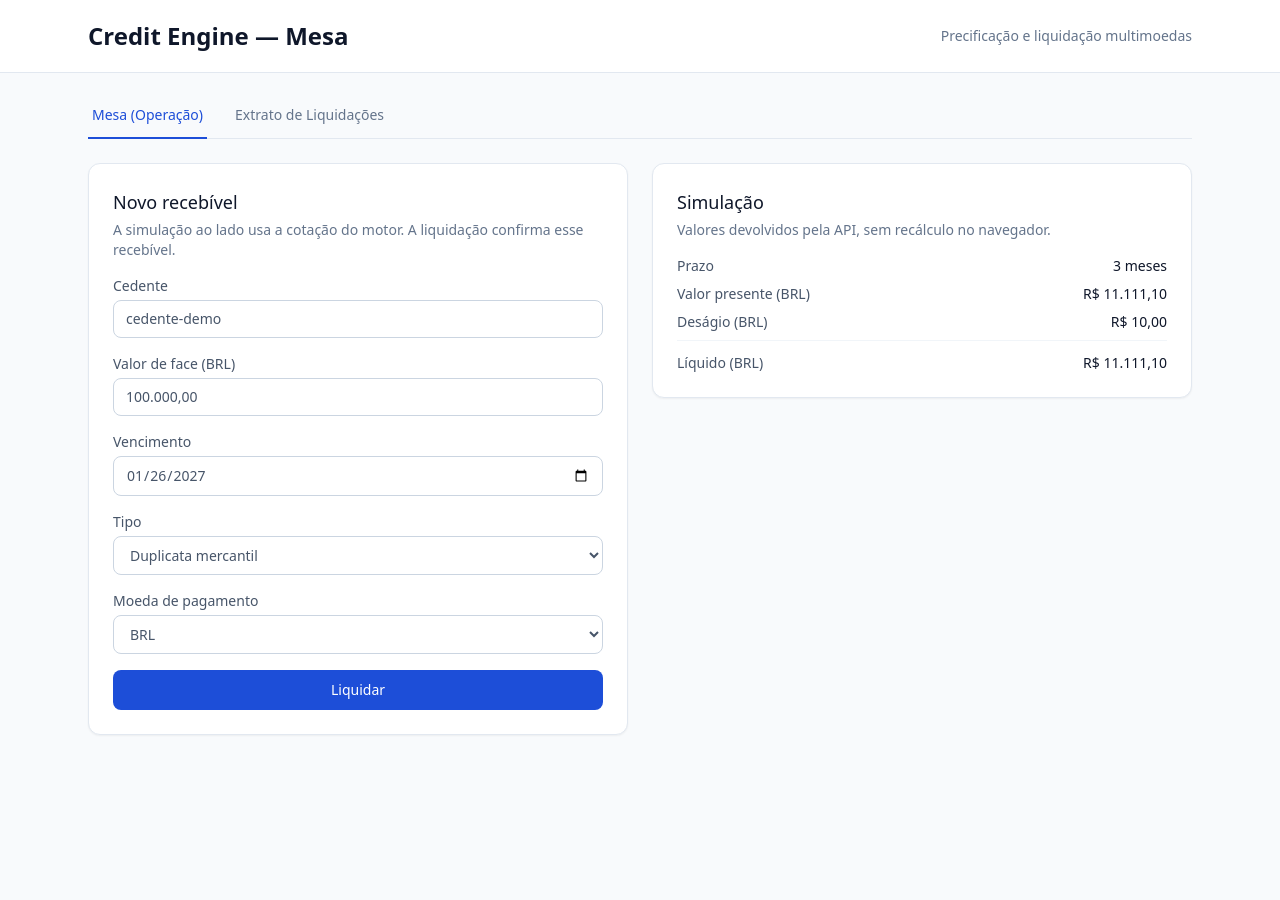
Test: dismisses the success alert
Check: the field labelled "Valor de face (BRL)" is shown, box [113,378,603,416]
Click the button "Liquidar" at (358, 690), box [113,670,603,710]
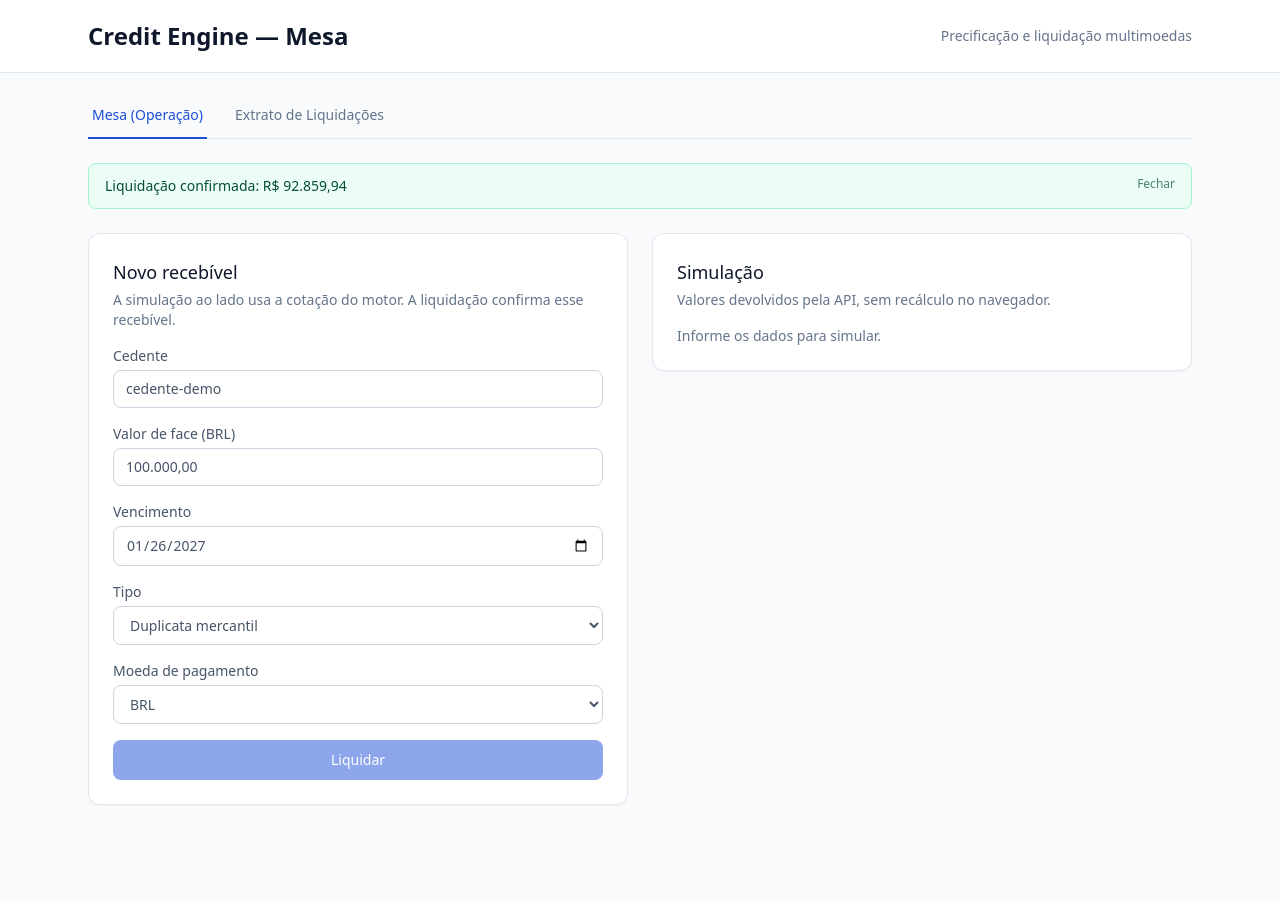
Check: the message shows "Liquidação confirmada: R$ 92.859,94", box [105,176,347,195]
Click the button "Fechar" at (1156, 184), box [1137,176,1175,192]
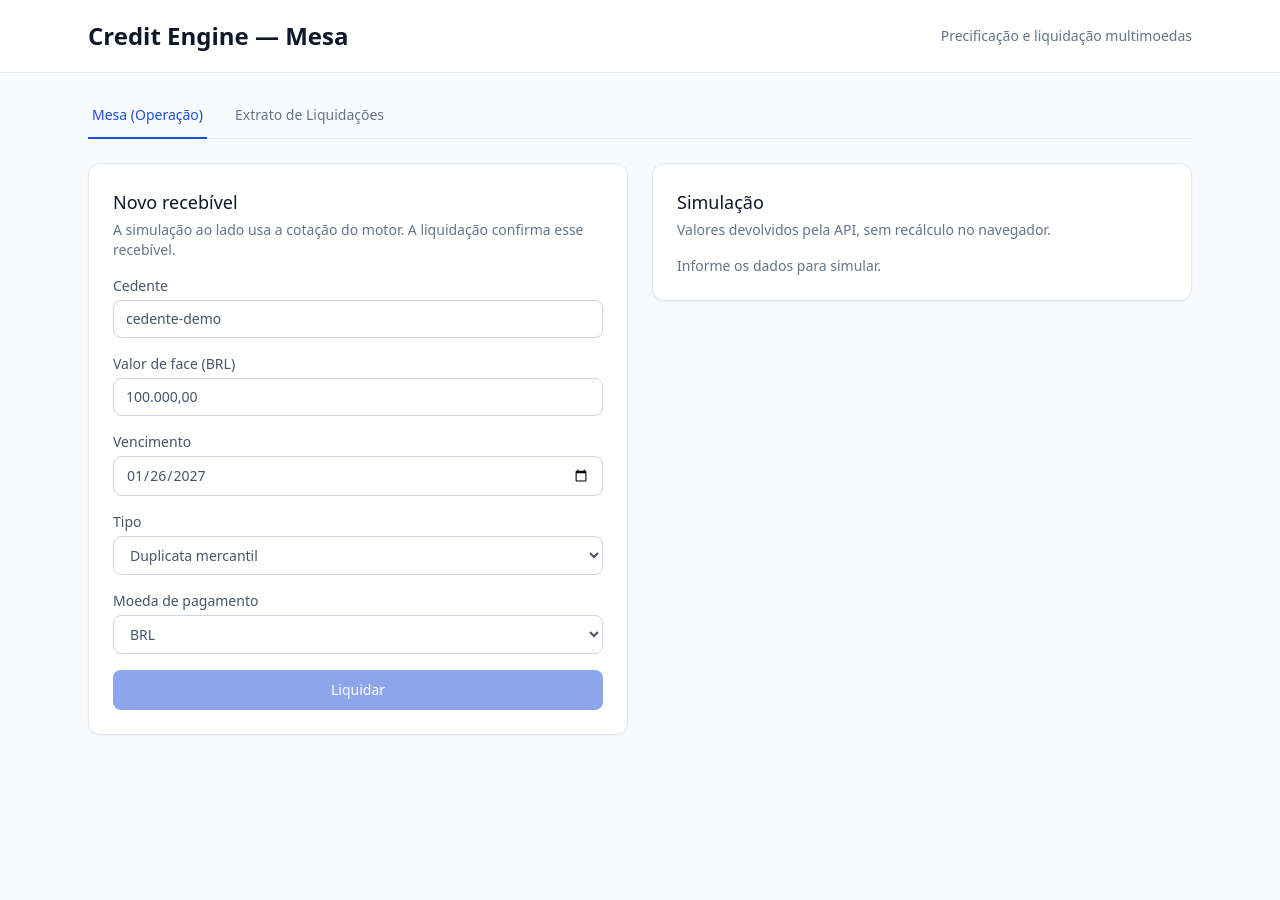
Check: the message "Liquidação confirmada: R$ 92.859,94 Fechar" is gone
Check: the text "Liquidação confirmada" is gone
